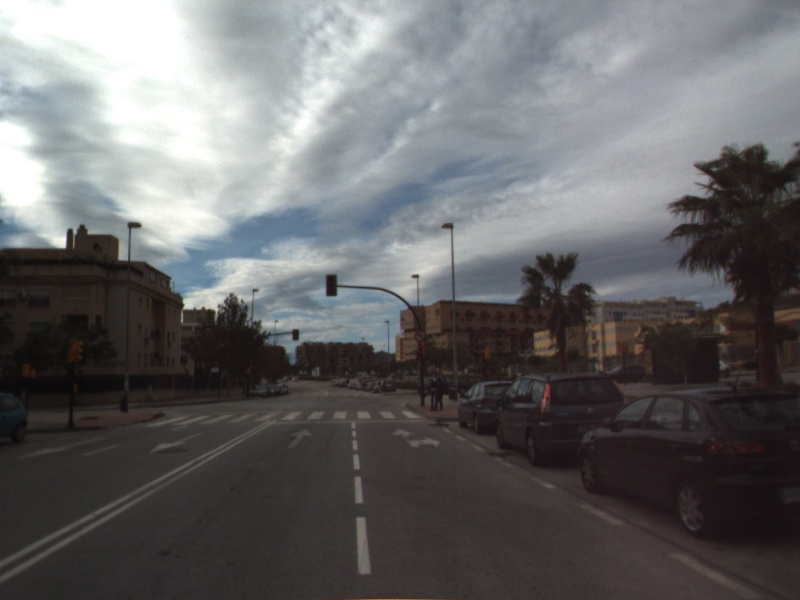STRAIGHT: (286, 427, 316, 450)
STRAIGHT_RIGHT: (390, 426, 442, 450)
